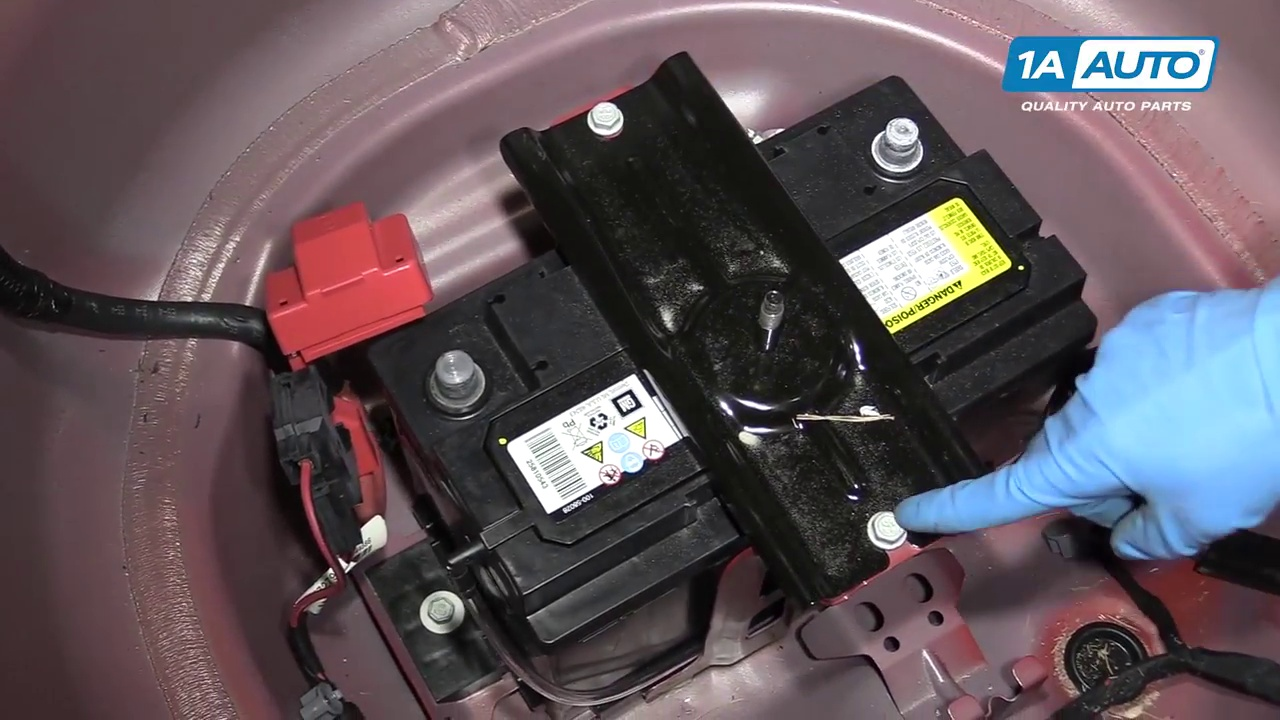battery: (370, 77, 1095, 608)
neg_disconnected: (848, 96, 953, 200)
pos_disconnected: (283, 207, 492, 431)
